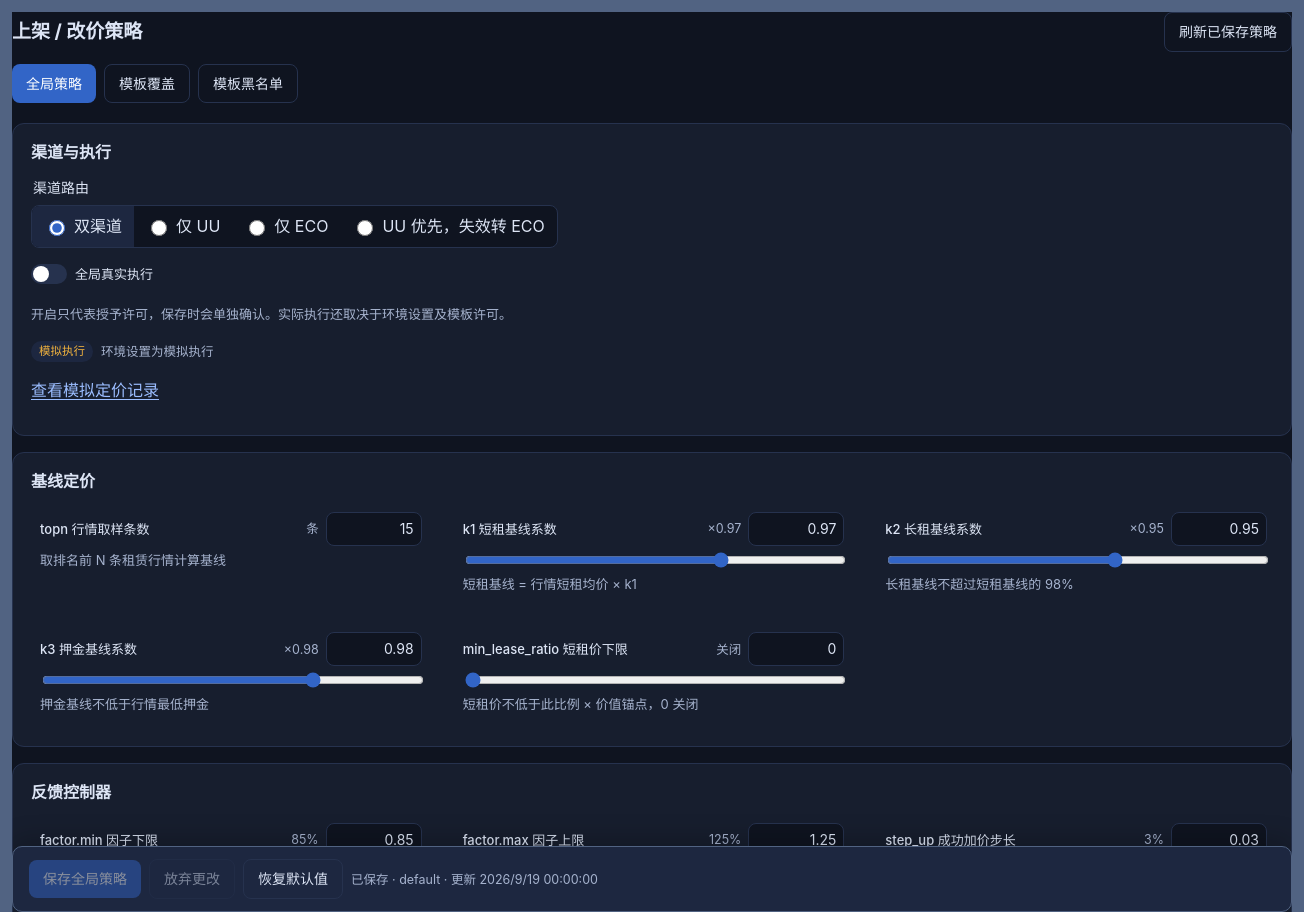
Test: global strategy drafts › prevents duplicate saves and retains the draft after failure
The image size is (1304, 912).
Expected: the number field named "k1 短租基线系数数值" is shown, [748, 512, 844, 546]
Click the radio button labelled "仅 ECO" at (257, 228), box [249, 220, 265, 236]
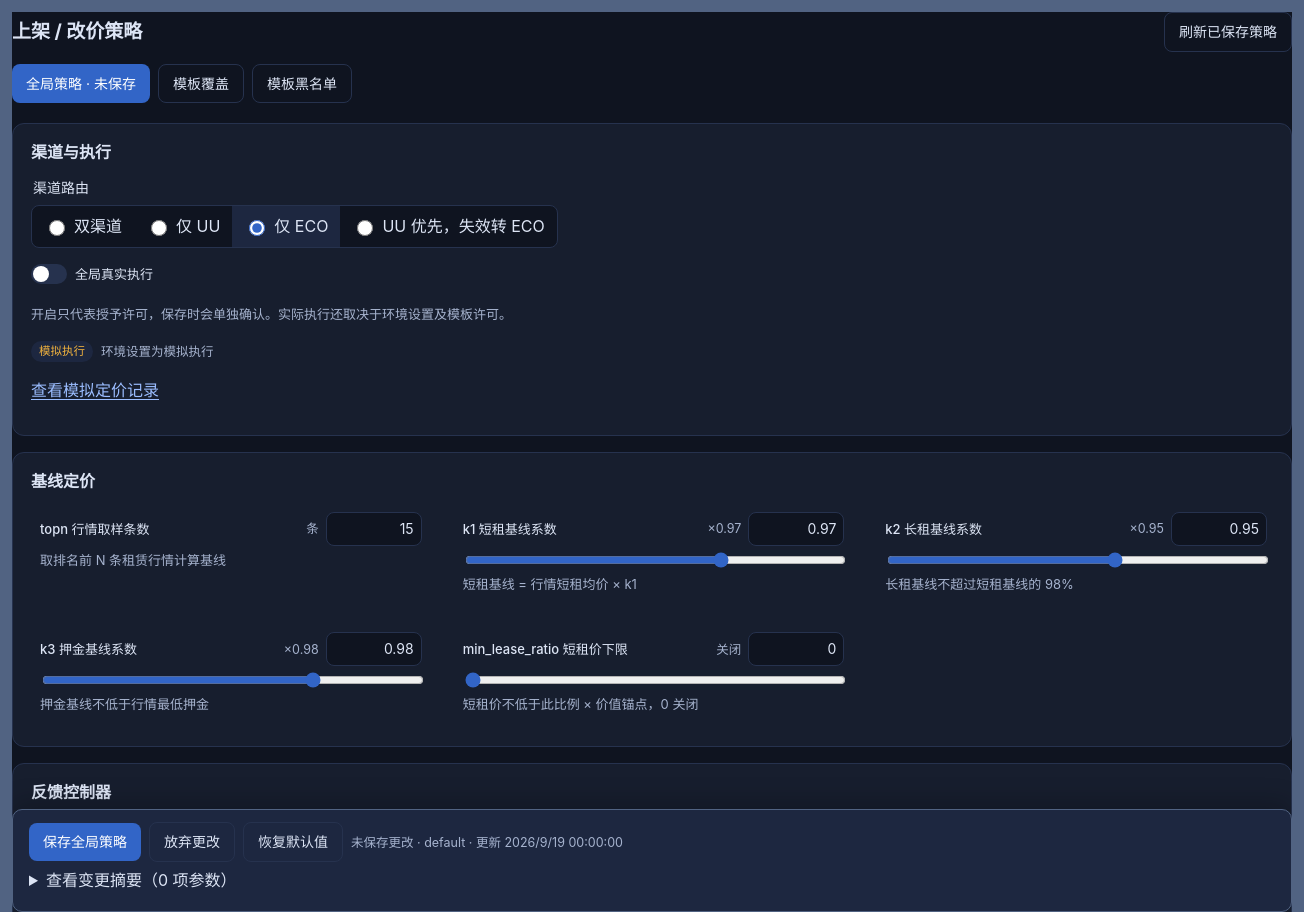
Click the button "保存全局策略" at (85, 842), box [29, 824, 141, 861]
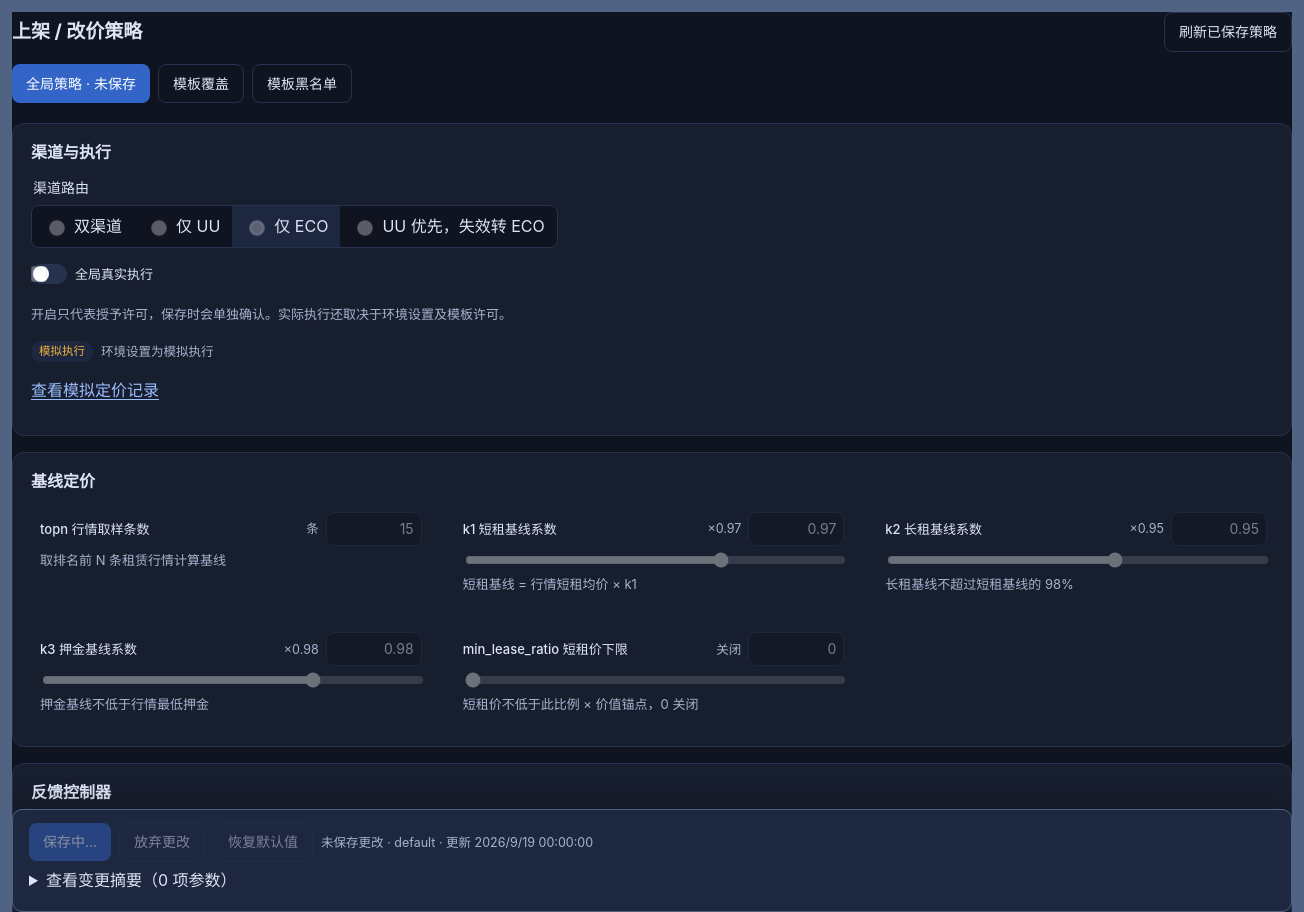
Click the button named "保存全局策略" at (70, 842), box [29, 824, 111, 861]
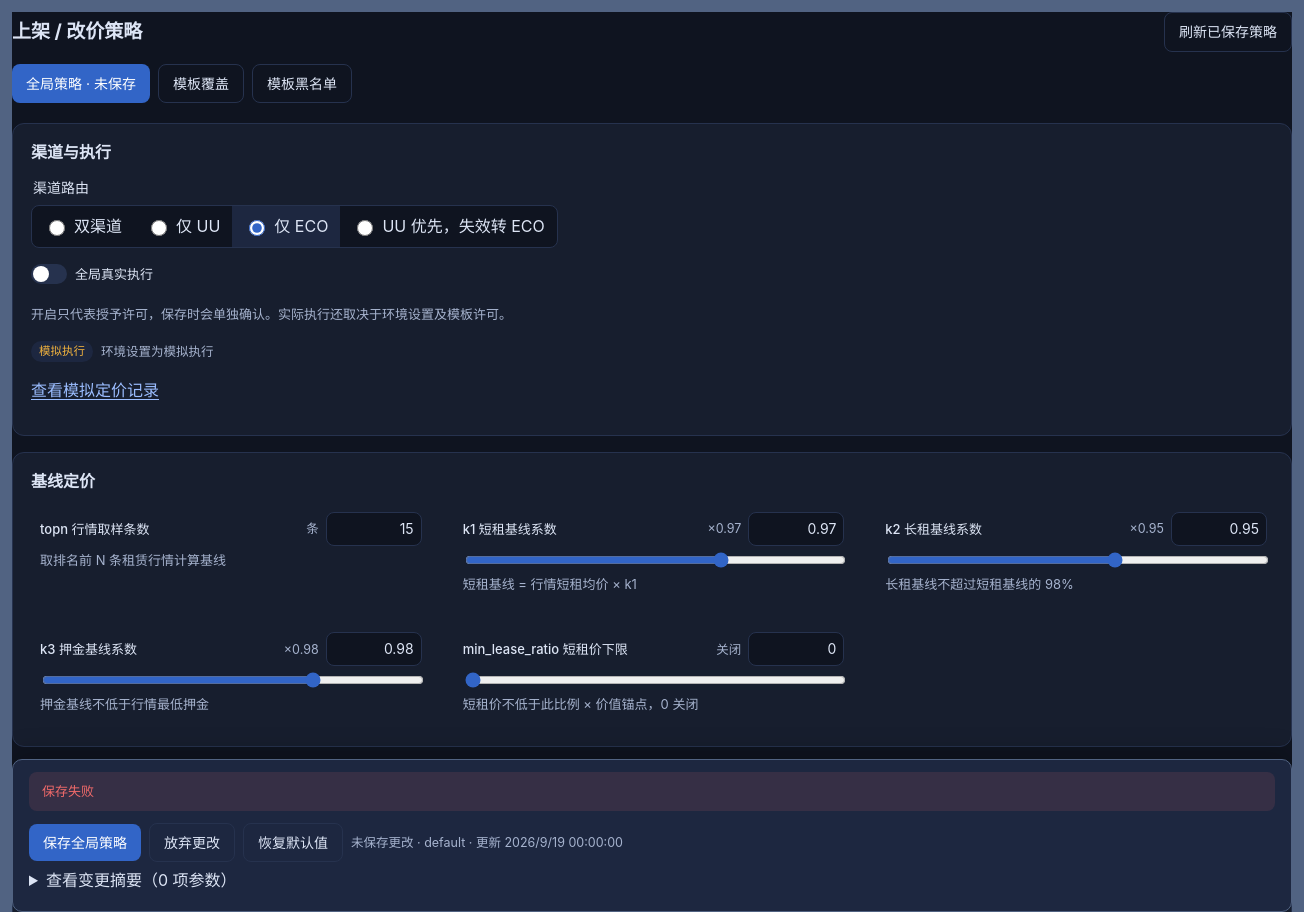
Result: the radio button labelled "仅 ECO" is checked at [249, 220, 265, 236]
Result: the text "保存失败" is shown at [29, 772, 1275, 810]
Result: the button "保存全局策略" is enabled at [29, 824, 141, 861]
